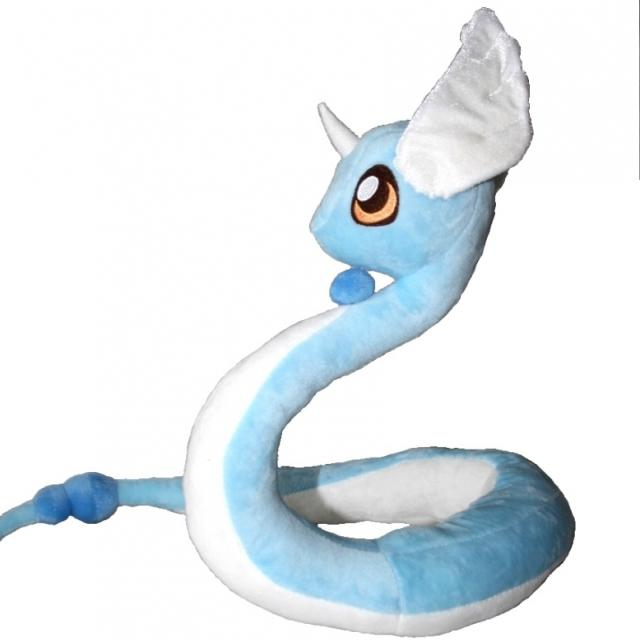Dragonair: (235, 108, 579, 628)
